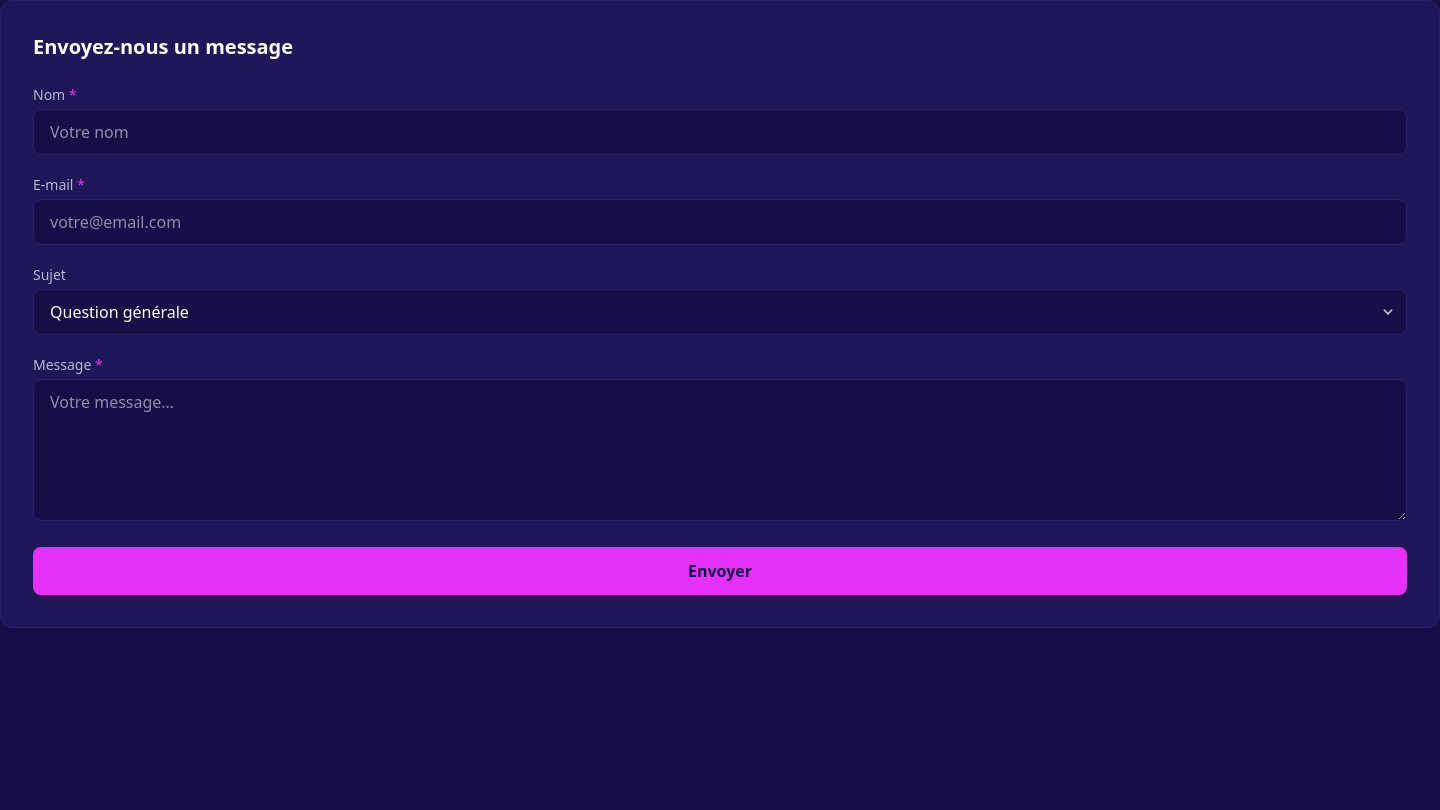
ContactForm › affiche une erreur si l'e-mail est vide
Type "Jean" into the field labelled "Nom *".
click(720, 132); type("Jean")  # box [33, 109, 1407, 155]
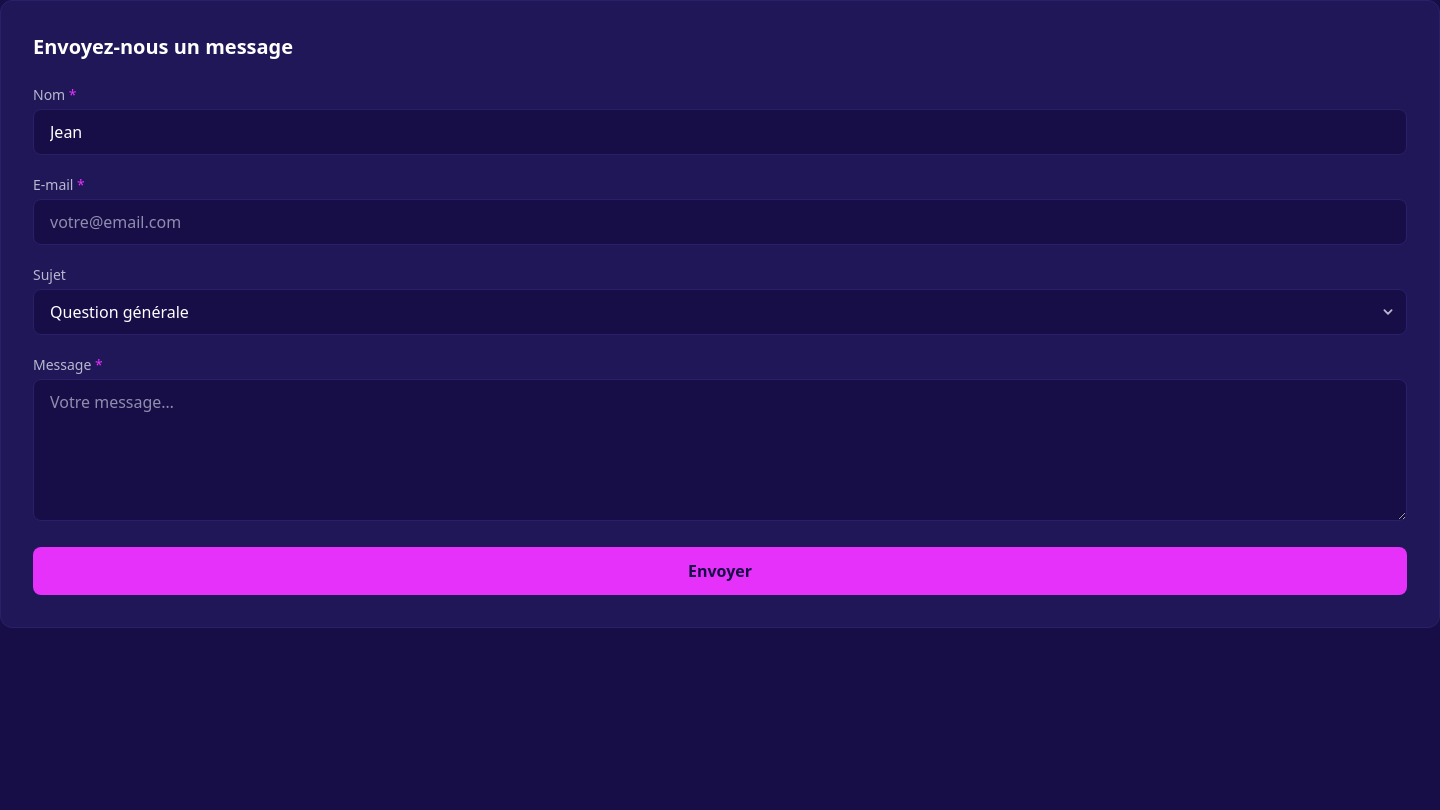
Type "Un message" into the text box labelled "Message *".
click(720, 450); type("Un message")  # box [33, 379, 1407, 521]
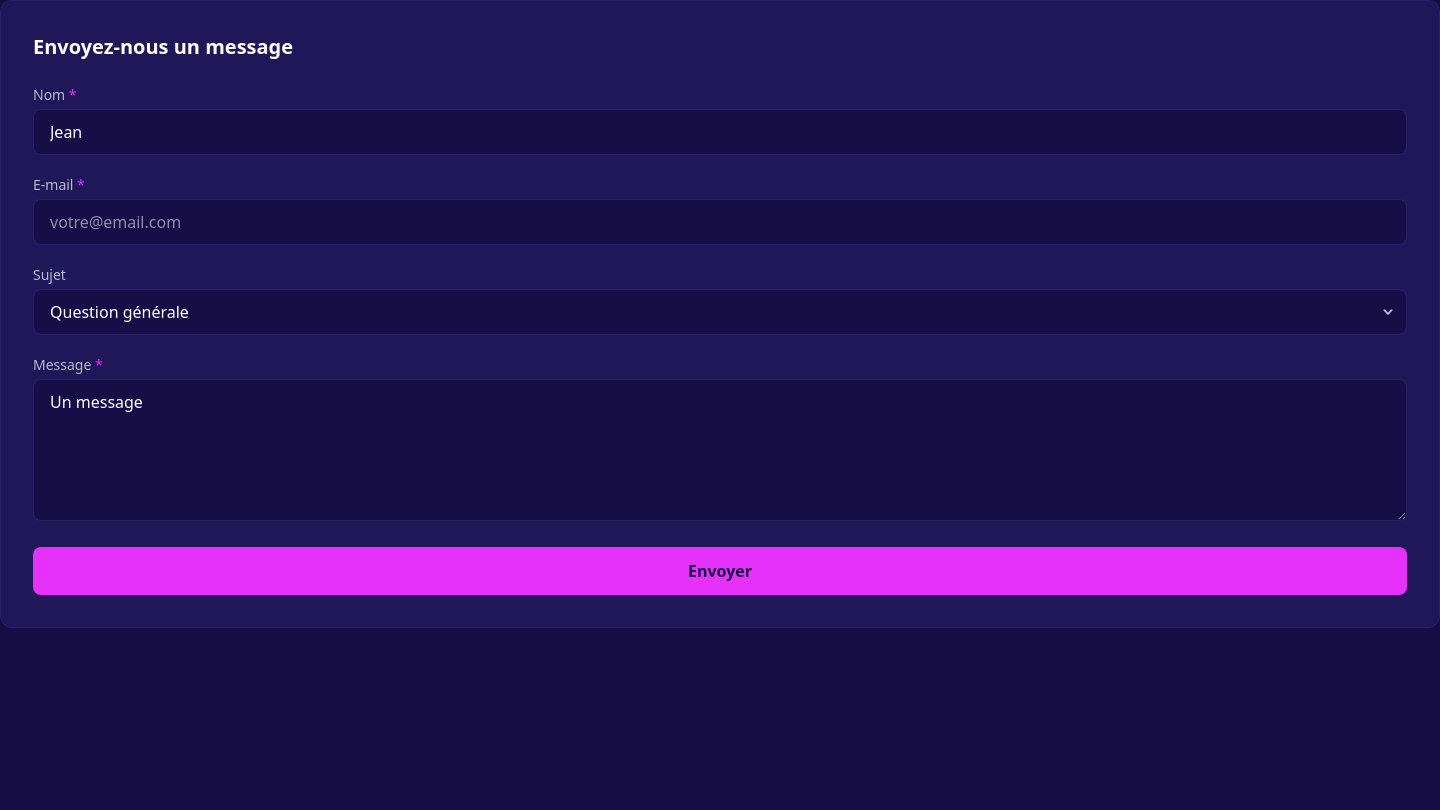
Submit the form
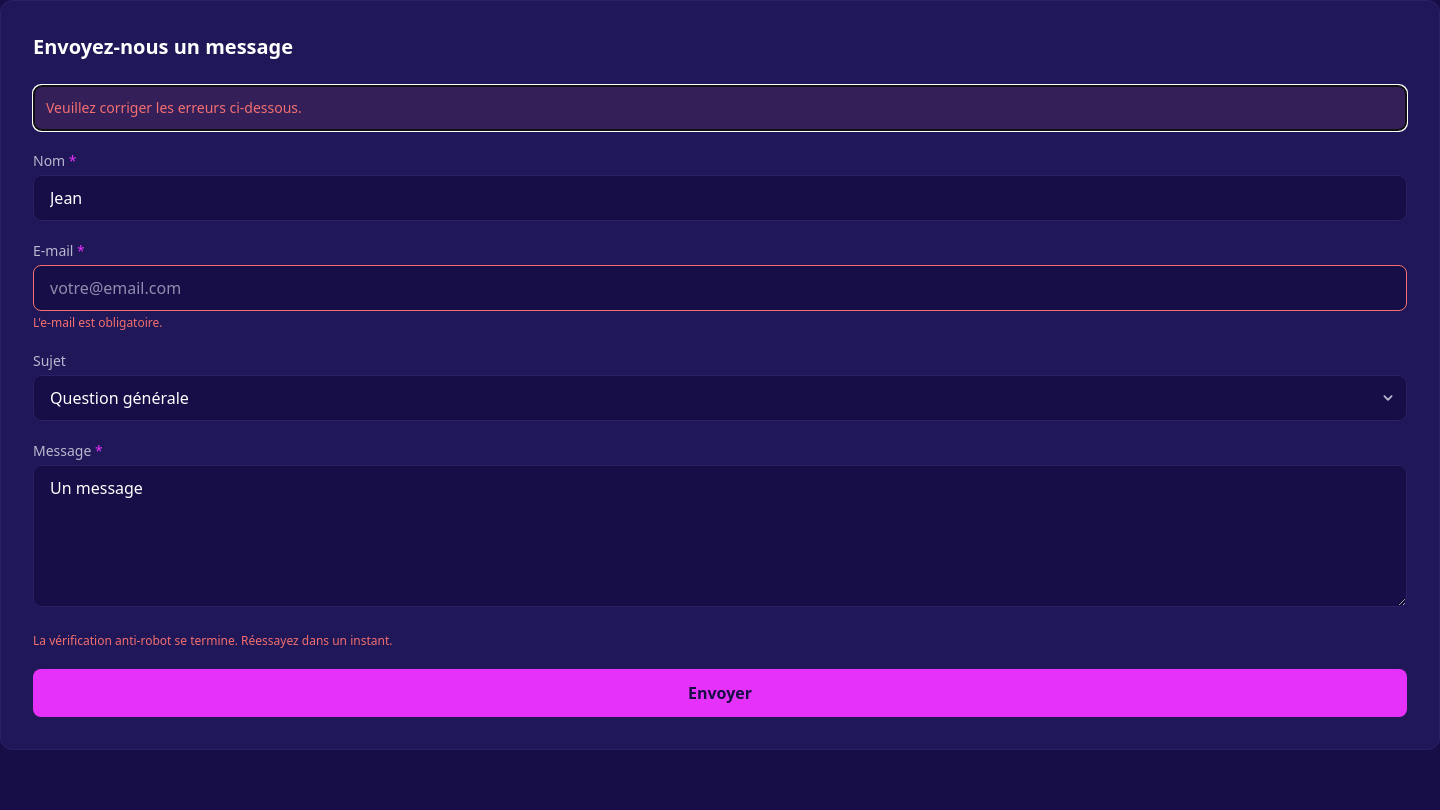
Check: the text "L'e-mail est obligatoire." is shown, box [33, 314, 162, 331]
